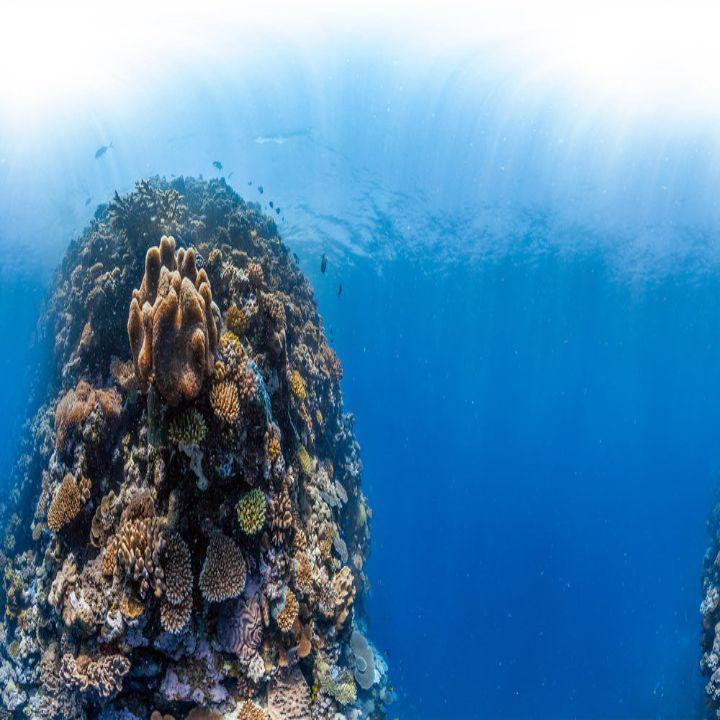Healthy Coral: (10, 148, 381, 702)
